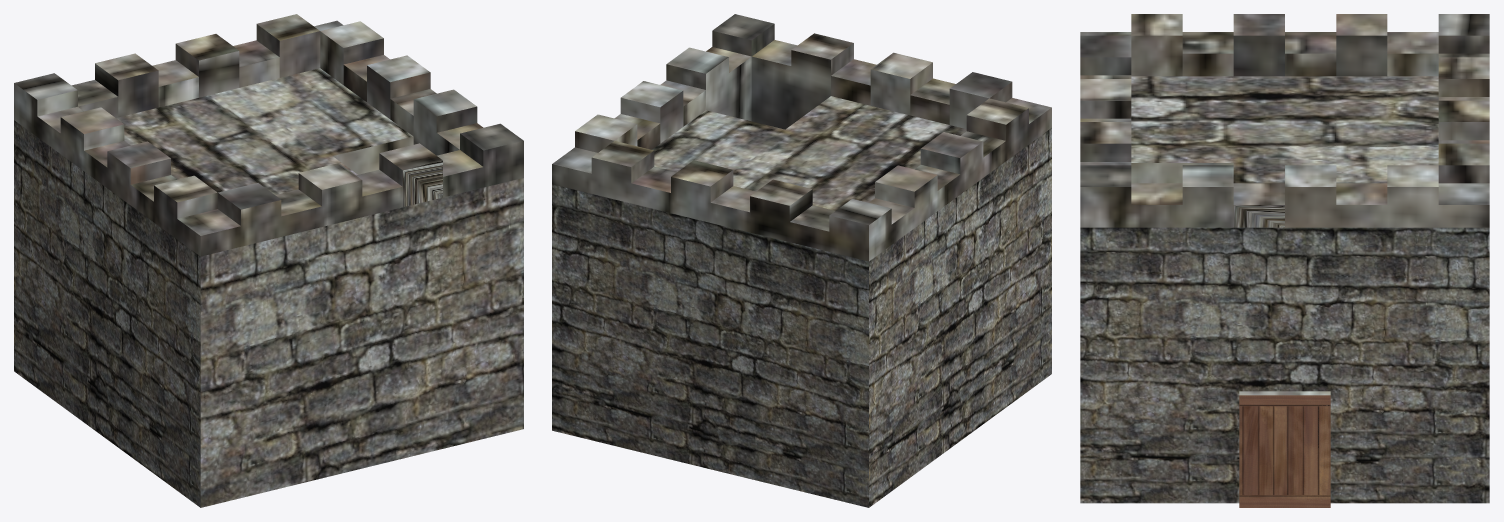
The model's file is inca_kallanka.dae.
3 renders of one model, left to right at view 1: azimuth 30°, elevation 25°; view 2: azimuth 150°, elevation 25°; view 3: azimuth 270°, elevation 25°, orthographic. The views are drawn at different scales.
Parts seen in each view (by area): view 1: kallanka; view 2: kallanka; view 3: kallanka.
Part boxes in pixels (bbox=[...]): kallanka: bbox=[14, 14, 523, 507]; kallanka: bbox=[552, 14, 1051, 507]; kallanka: bbox=[1080, 14, 1489, 507].
Bounding box in the file's own units: 25.6 × 25.01 × 21.36.
1 material, 1 textured.
